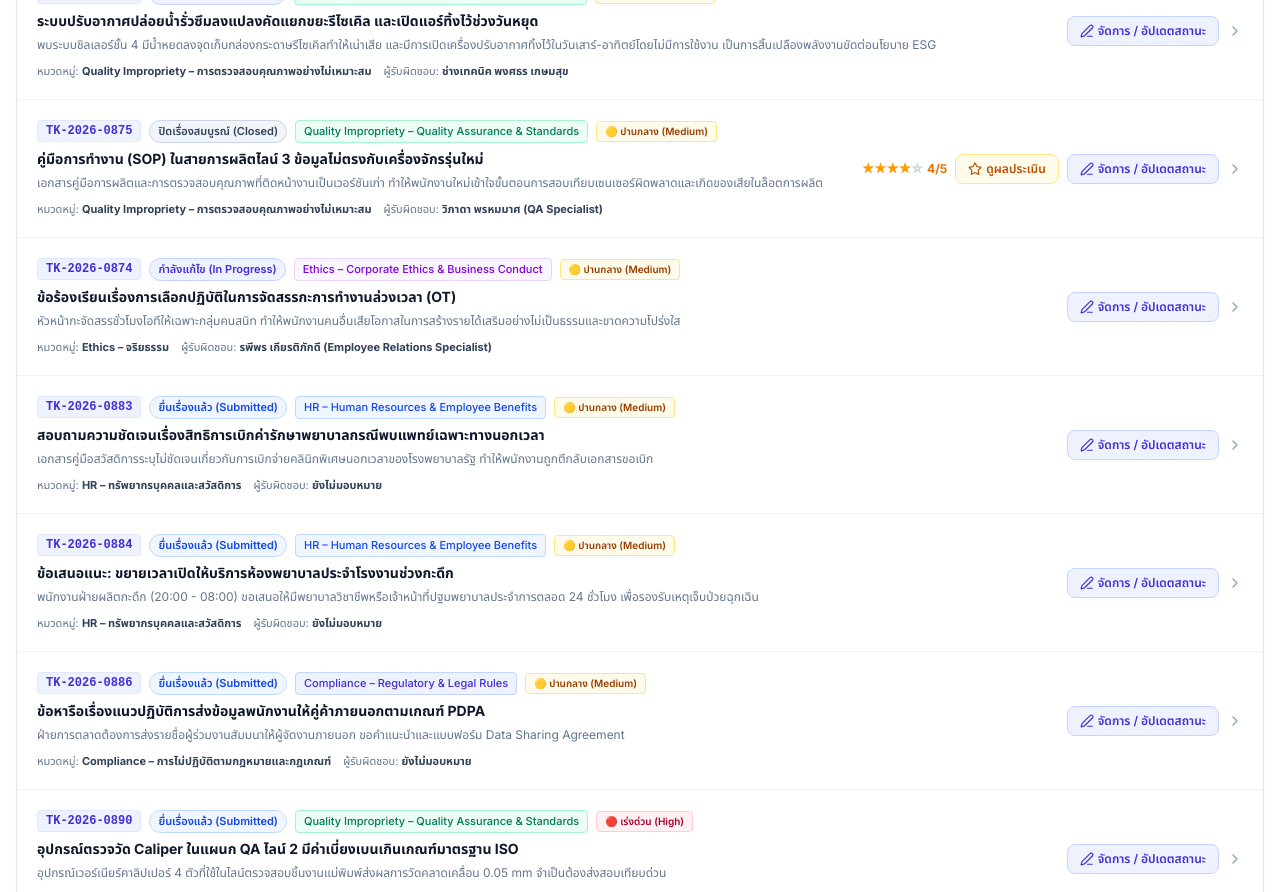
GatekeeperInbox › triage modal › saves the reviewed urgency and risk severity and closes
(page scrolled)
Click the 4th button "จัดการ / อัปเดตสถานะ" at (1143, 444), box x1=1067 y1=430 x2=1219 y2=460
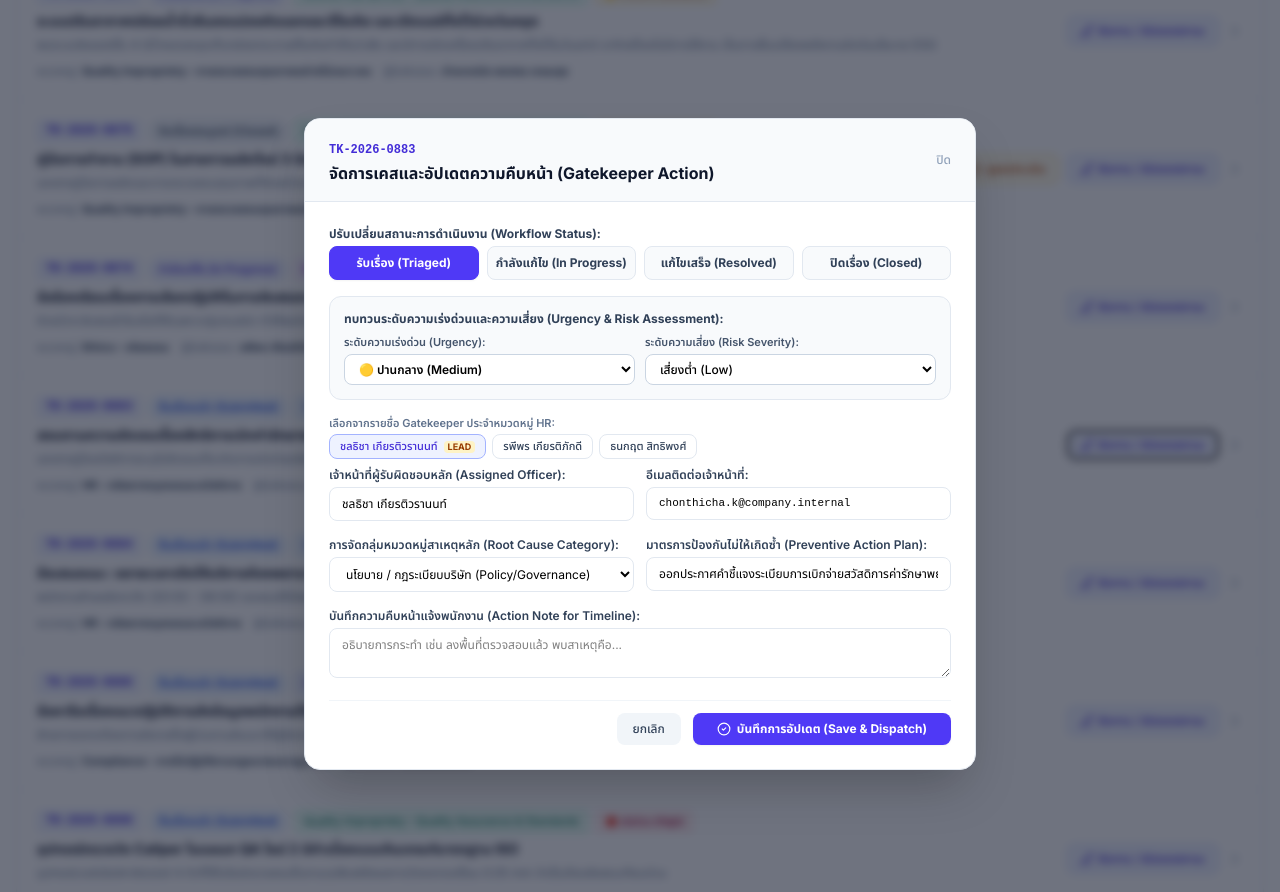
Select "🔥 วิกฤติ / ฉุกเฉิน (Critical)" in the dropdown labelled "ระดับความเร่งด่วน (Urgency):" at (490, 369), box x1=344 y1=354 x2=635 y2=385
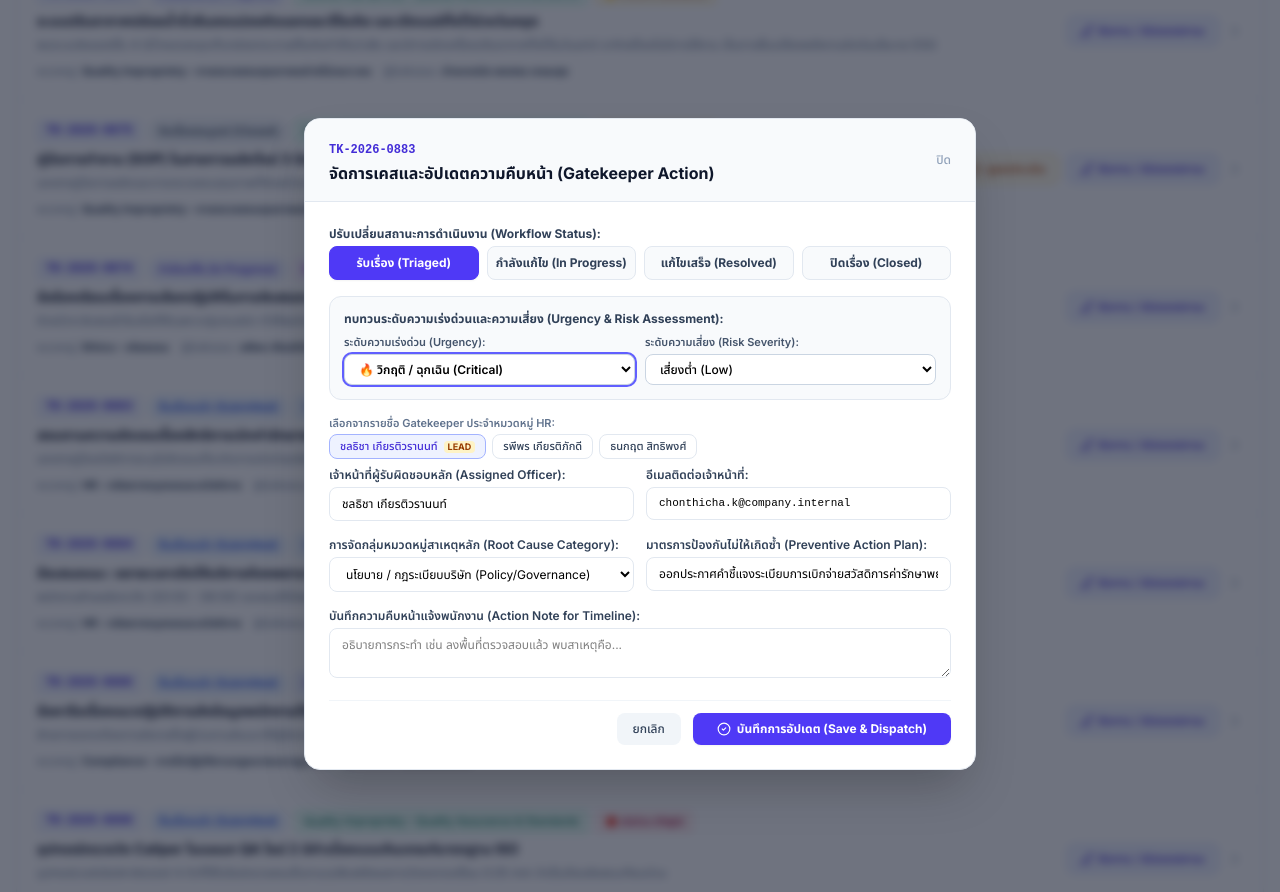
Select "วิกฤติรุนแรง (Severe)" in the dropdown labelled "ระดับความเสี่ยง (Risk Severity):" at (790, 369), box x1=645 y1=354 x2=936 y2=385
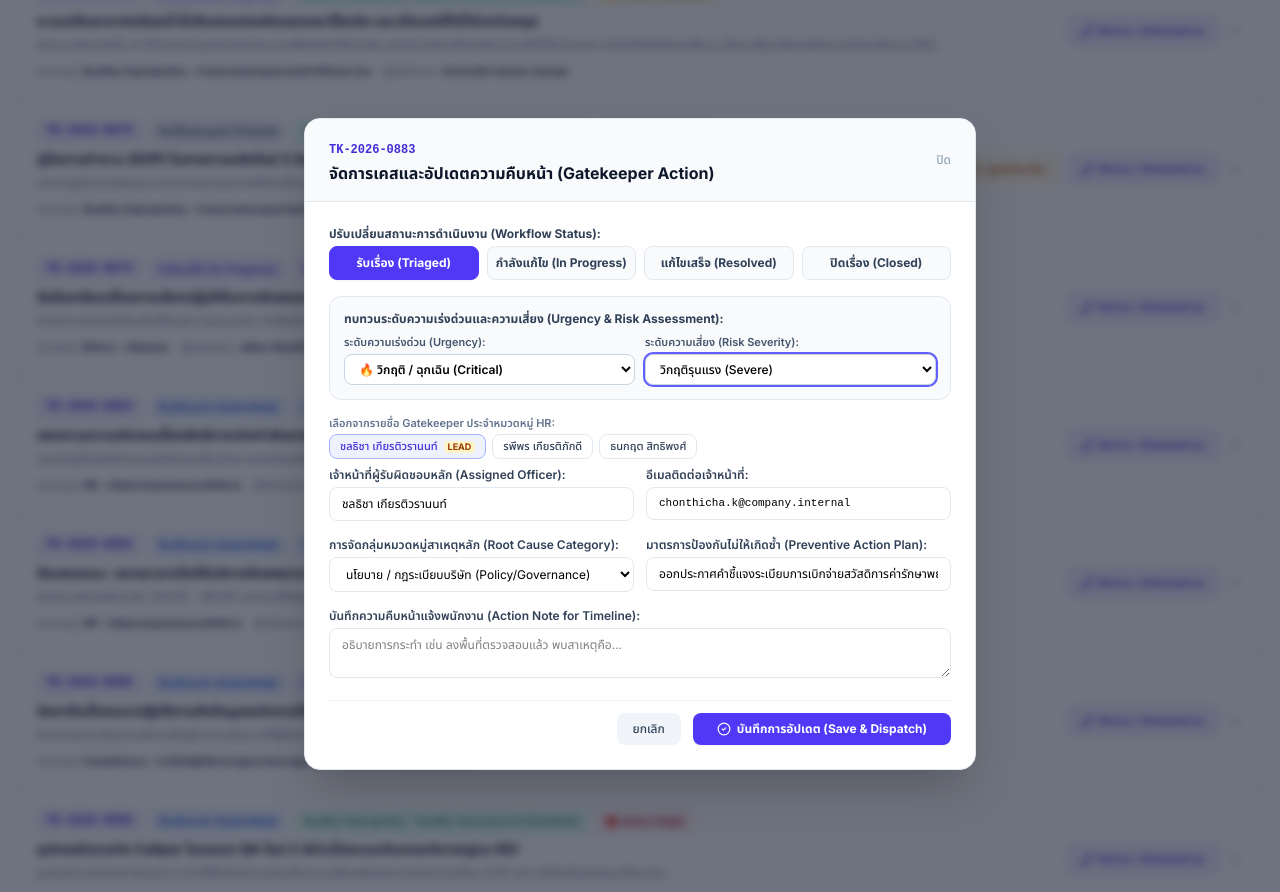
Click the button "บันทึกการอัปเดต (Save & Dispatch)" at (822, 729), box x1=693 y1=713 x2=951 y2=745
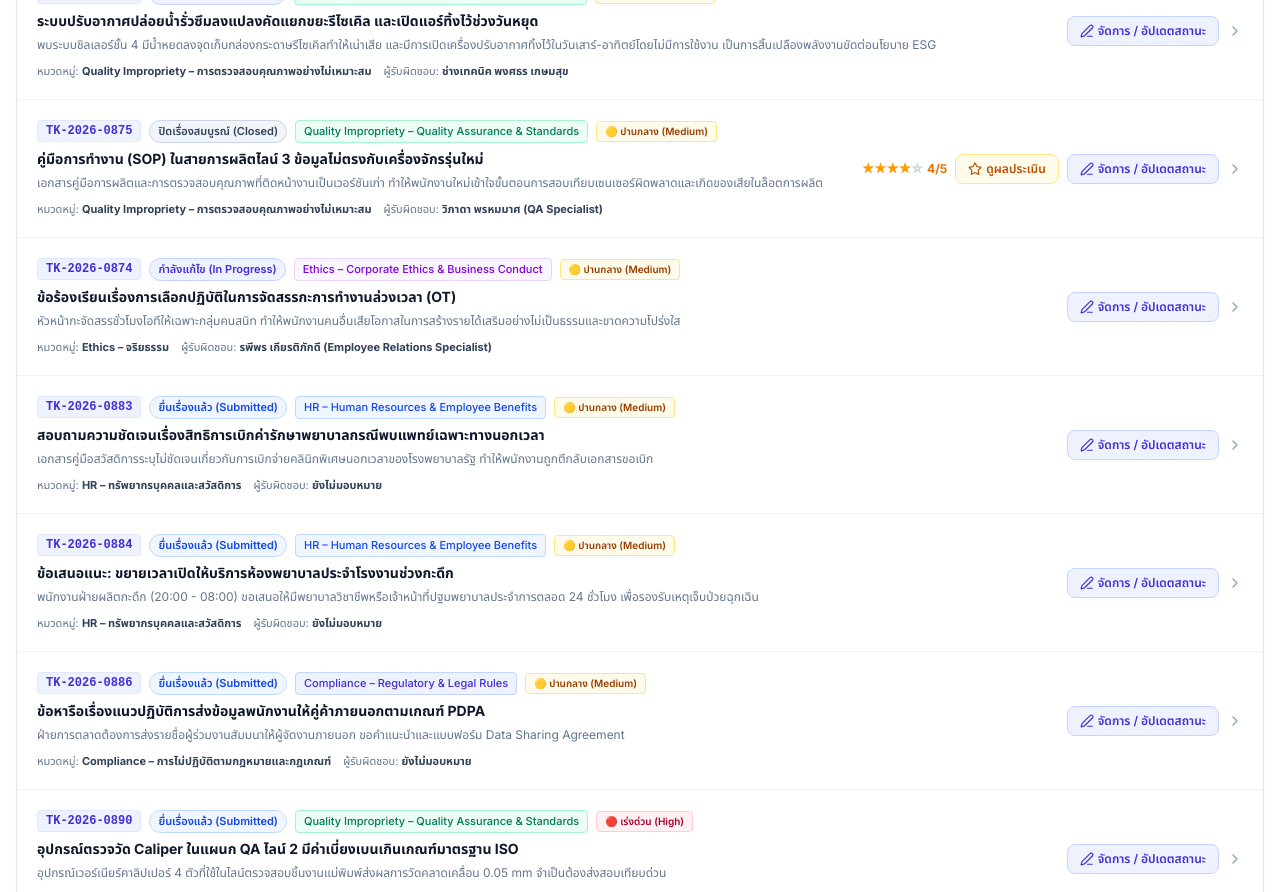
Now the heading "Gatekeeper Action" is gone
